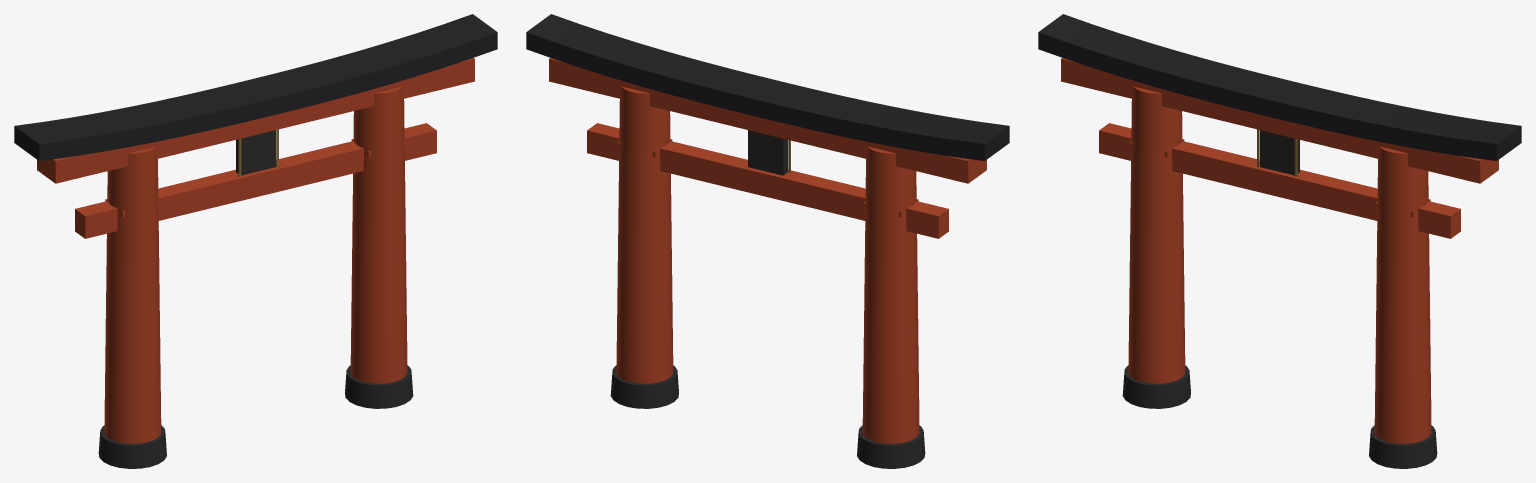
Rendered from heianTorii.glb.
The picture shows the model from 3 angles, left to right: view 1: azimuth 30°, elevation 25°; view 2: azimuth 150°, elevation 25°; view 3: azimuth 330°, elevation 25°; orthographic projection.
Size of the model in its own units: 33.9 by 24.4 by 4.4.
